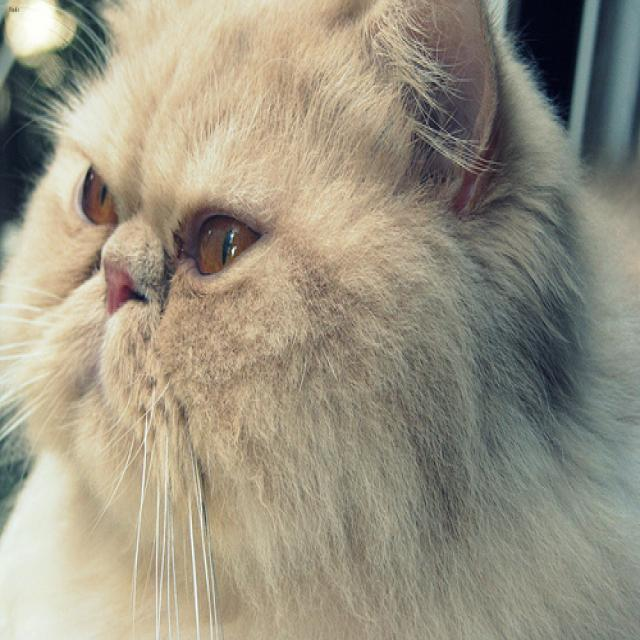Persian: (0, 0, 584, 575)
